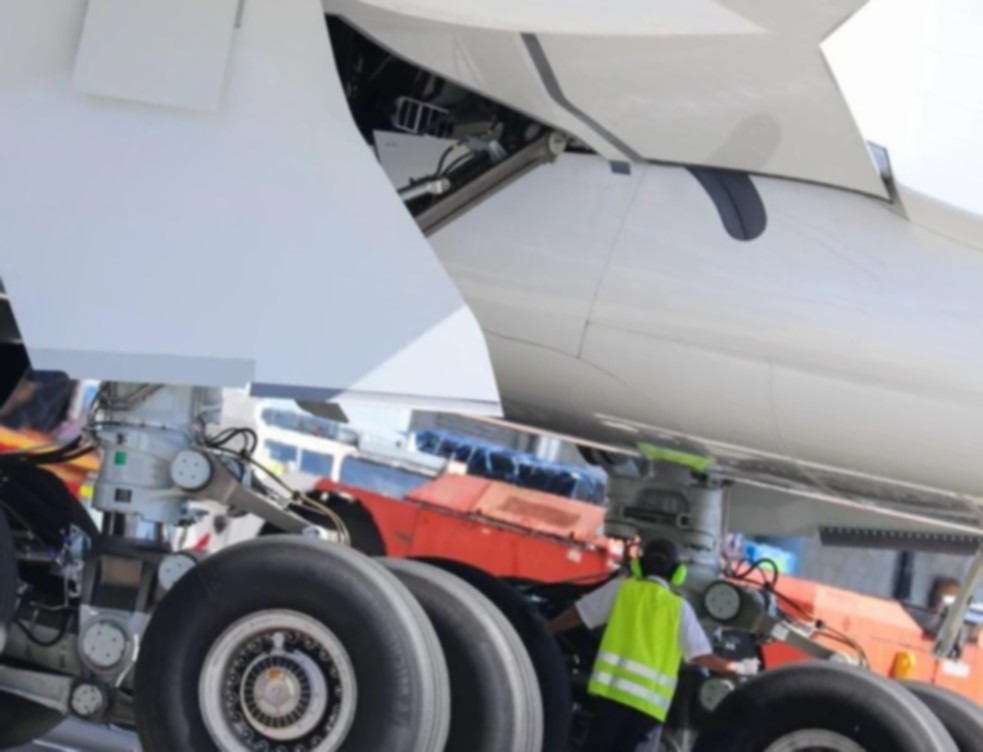wheel: (105, 494, 504, 752), (282, 539, 589, 752), (648, 623, 983, 752), (0, 435, 128, 752), (0, 421, 61, 752), (825, 669, 983, 752), (278, 480, 400, 566)
